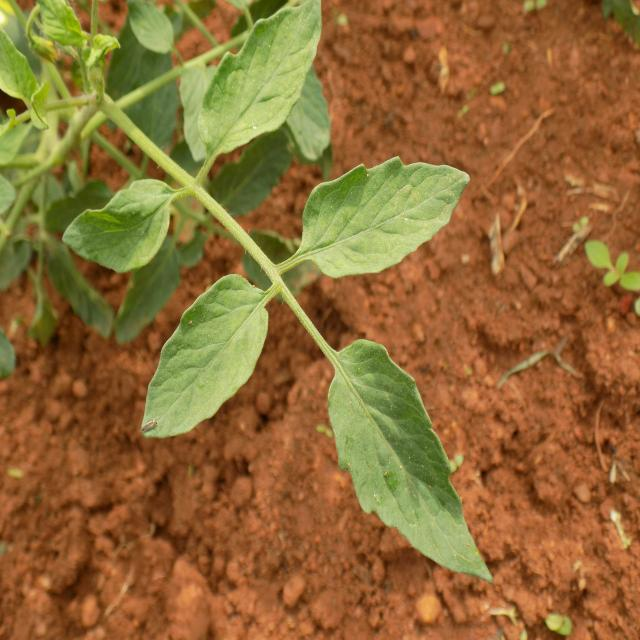tomato_healthy: (326, 334, 495, 586), (296, 152, 469, 278), (199, 0, 320, 157), (140, 274, 252, 441), (55, 176, 176, 275)
